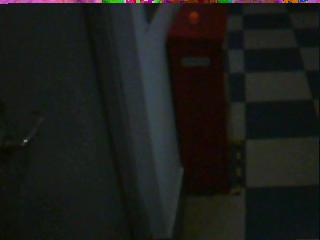oball: (188, 10, 200, 21)
